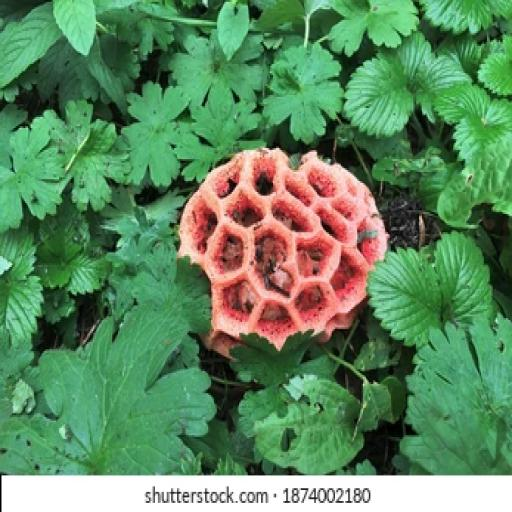Red Cage Fungus: (149, 109, 411, 367)
